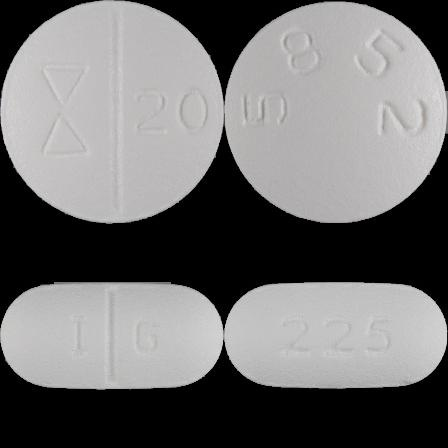21695-725: (0, 0, 224, 224)
